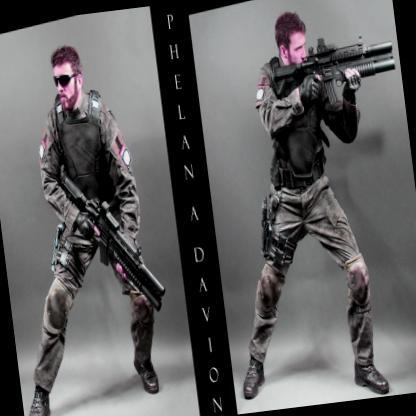rifle: (46, 163, 173, 325), (256, 33, 401, 113)
